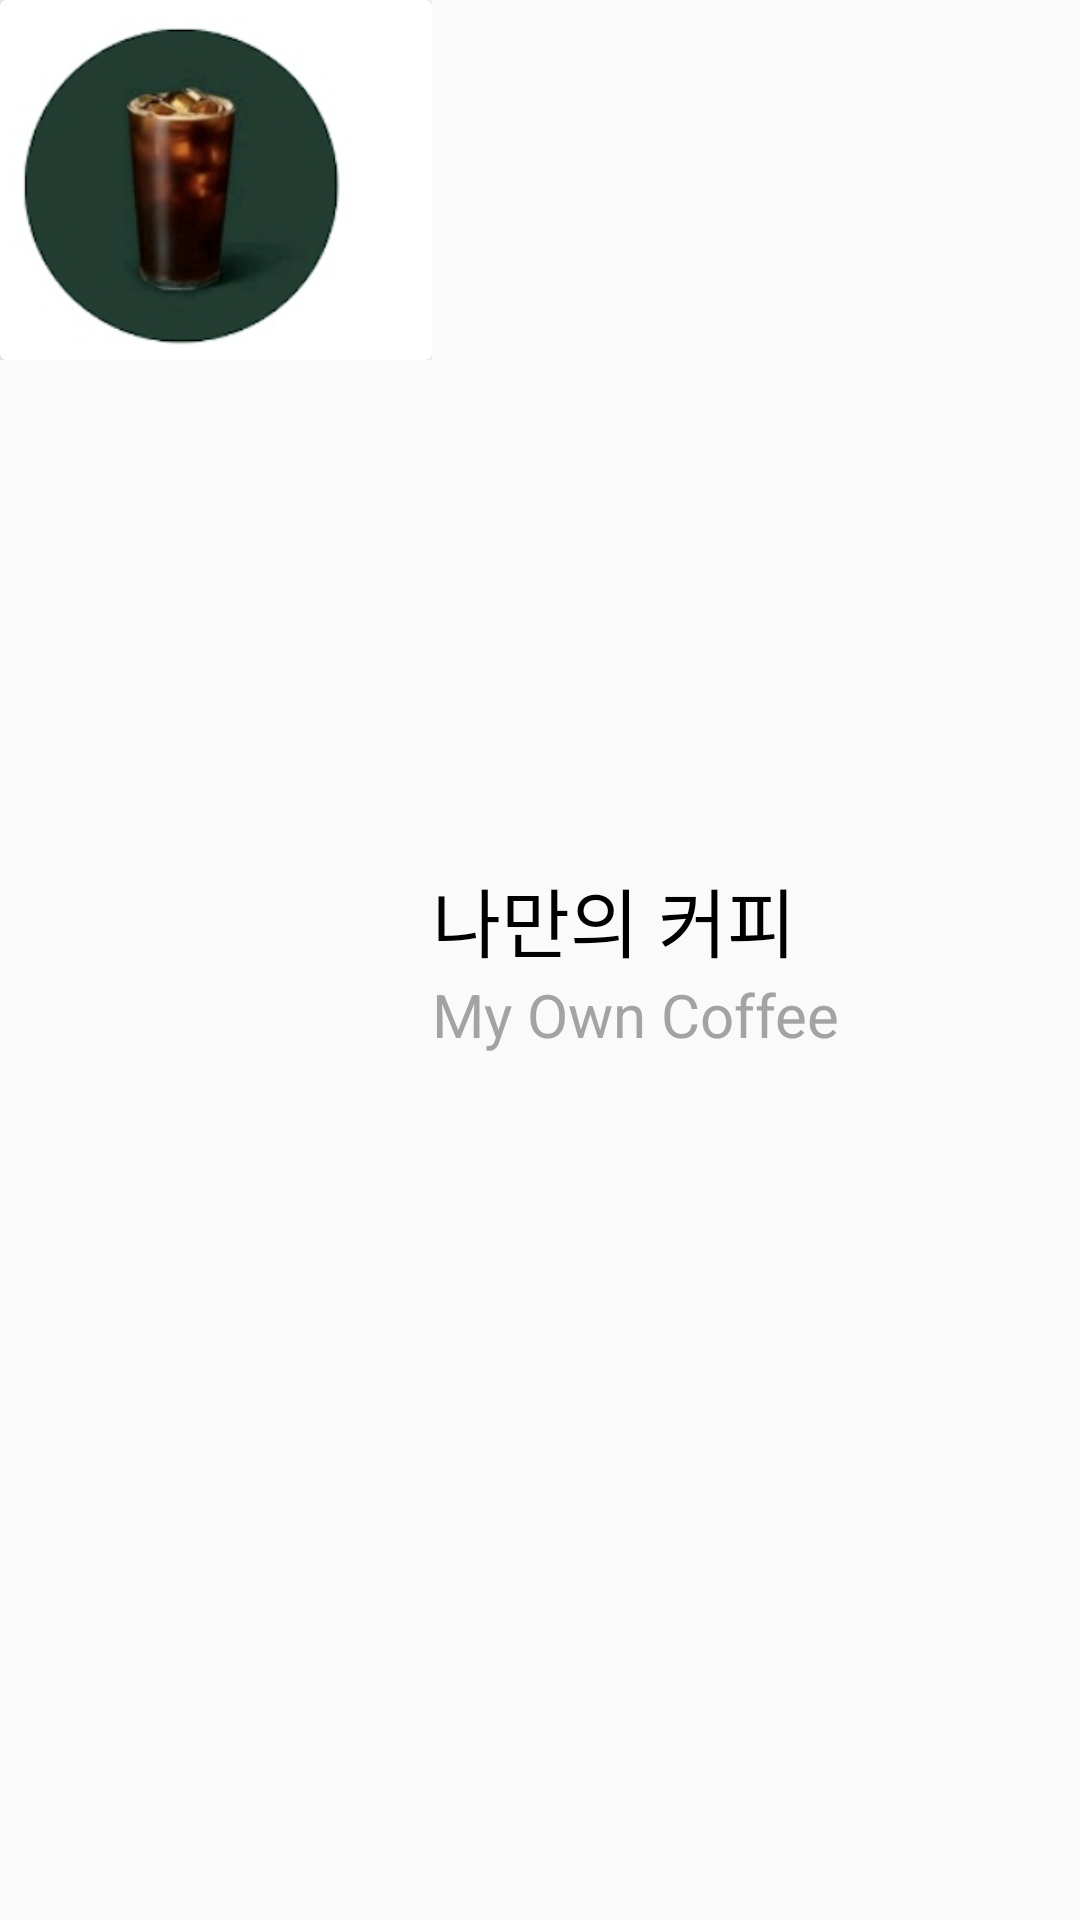

Icons on this 1080*1920 Android screen, each with the point to tap as [x,y]:
coffee: [170,180]
